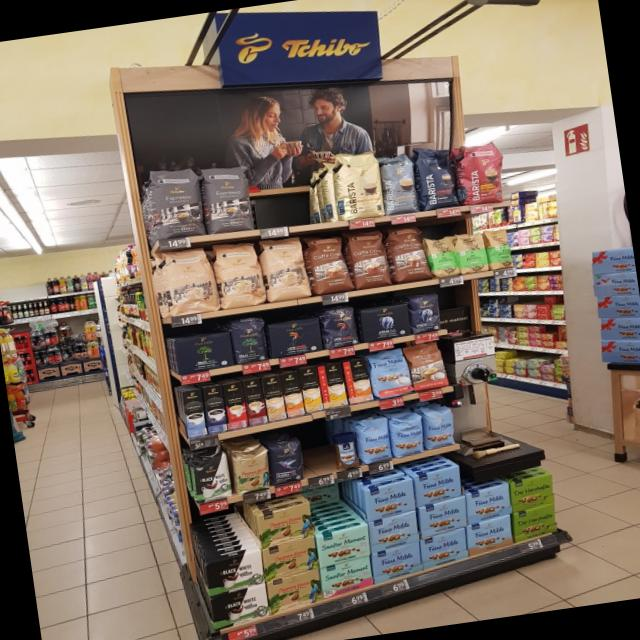AB Bohne: (408, 292, 444, 334)
AB Gemahlen: (358, 302, 414, 343)
Athiopien Bohne: (485, 226, 518, 272)
Athiopien Gemahlen: (424, 234, 462, 280), (455, 229, 490, 274)
BM Bohne: (228, 314, 272, 366)
BM Gemahlen: (171, 331, 236, 376)
BW Bohne: (187, 452, 235, 503)
BW Gemahlen: (204, 550, 265, 598), (211, 583, 269, 633)
Barista CB: (331, 144, 387, 222)
Barista CC: (378, 150, 422, 216)
Barista Espresso: (414, 141, 462, 212)
Barista Kolumbien: (456, 136, 509, 206)
C Fino Bohne: (268, 441, 306, 486)
CC Mild: (160, 244, 220, 318), (210, 236, 268, 312), (258, 233, 314, 304)
CC Vollmundig: (404, 341, 448, 392)
CC Vollmundig 36 Pads: (304, 228, 354, 296), (344, 227, 392, 290), (386, 224, 432, 284)
Colombia BB Bohne: (228, 447, 274, 495)
Colombia BB Gemahlen: (261, 536, 319, 584), (267, 568, 325, 616), (258, 502, 315, 550)
Empty Shelf: (248, 149, 340, 232)
Espresso Aromatisch: (144, 164, 208, 242), (199, 158, 257, 236)
FM 36 Pads: (367, 348, 414, 399)
FM Bohne: (356, 416, 394, 465), (389, 415, 426, 458), (422, 410, 458, 450)
FM Gemahlen: (369, 509, 420, 554), (418, 495, 468, 539), (366, 479, 417, 522), (372, 542, 424, 584), (421, 528, 470, 571), (467, 514, 515, 556), (416, 466, 462, 508), (466, 484, 512, 526)
FM Instant: (331, 432, 361, 472)
Herzhatfe Mundig: (512, 503, 558, 544), (511, 473, 556, 514)
LG Bohne: (320, 304, 362, 350)
LG Gemahlen: (266, 316, 324, 358)
SM Gemahlen: (319, 556, 373, 601), (318, 525, 372, 569)
Simo CCMild: (317, 362, 349, 409)
Simo CCMild bigpack: (299, 366, 324, 413)
Simo CCVollmundig: (342, 358, 374, 404)
Simo CCVollmundig bigpack: (282, 371, 306, 418)
Simo Decaff: (263, 374, 287, 422)
Simo Es Brazil: (224, 381, 250, 430)
Simo Es Caramel: (243, 378, 269, 426)
Simo Es Kraft: (204, 385, 228, 435)
Simo Es Vanilla: (183, 389, 207, 439)
